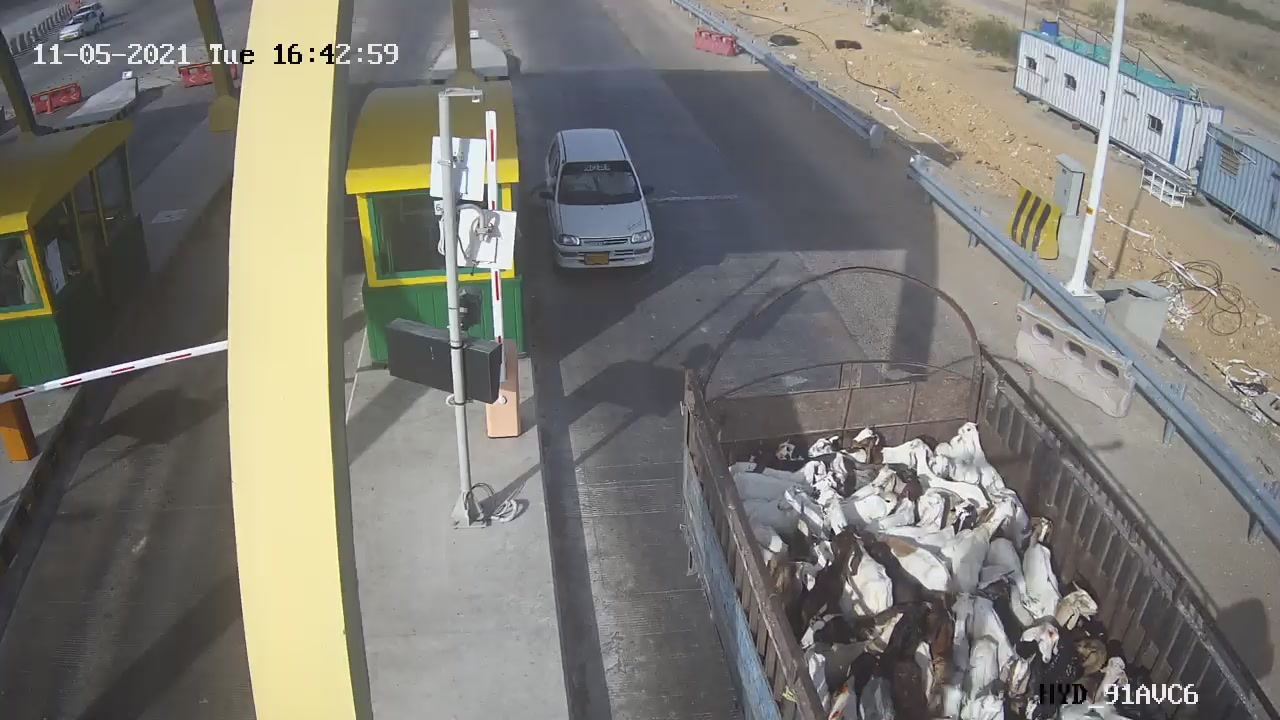F1: (527, 116, 679, 283)
